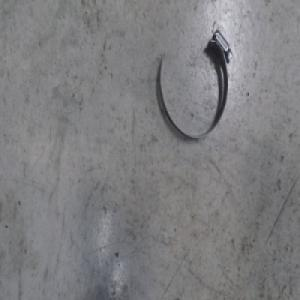AdjustableClamp: (157, 25, 233, 145)
